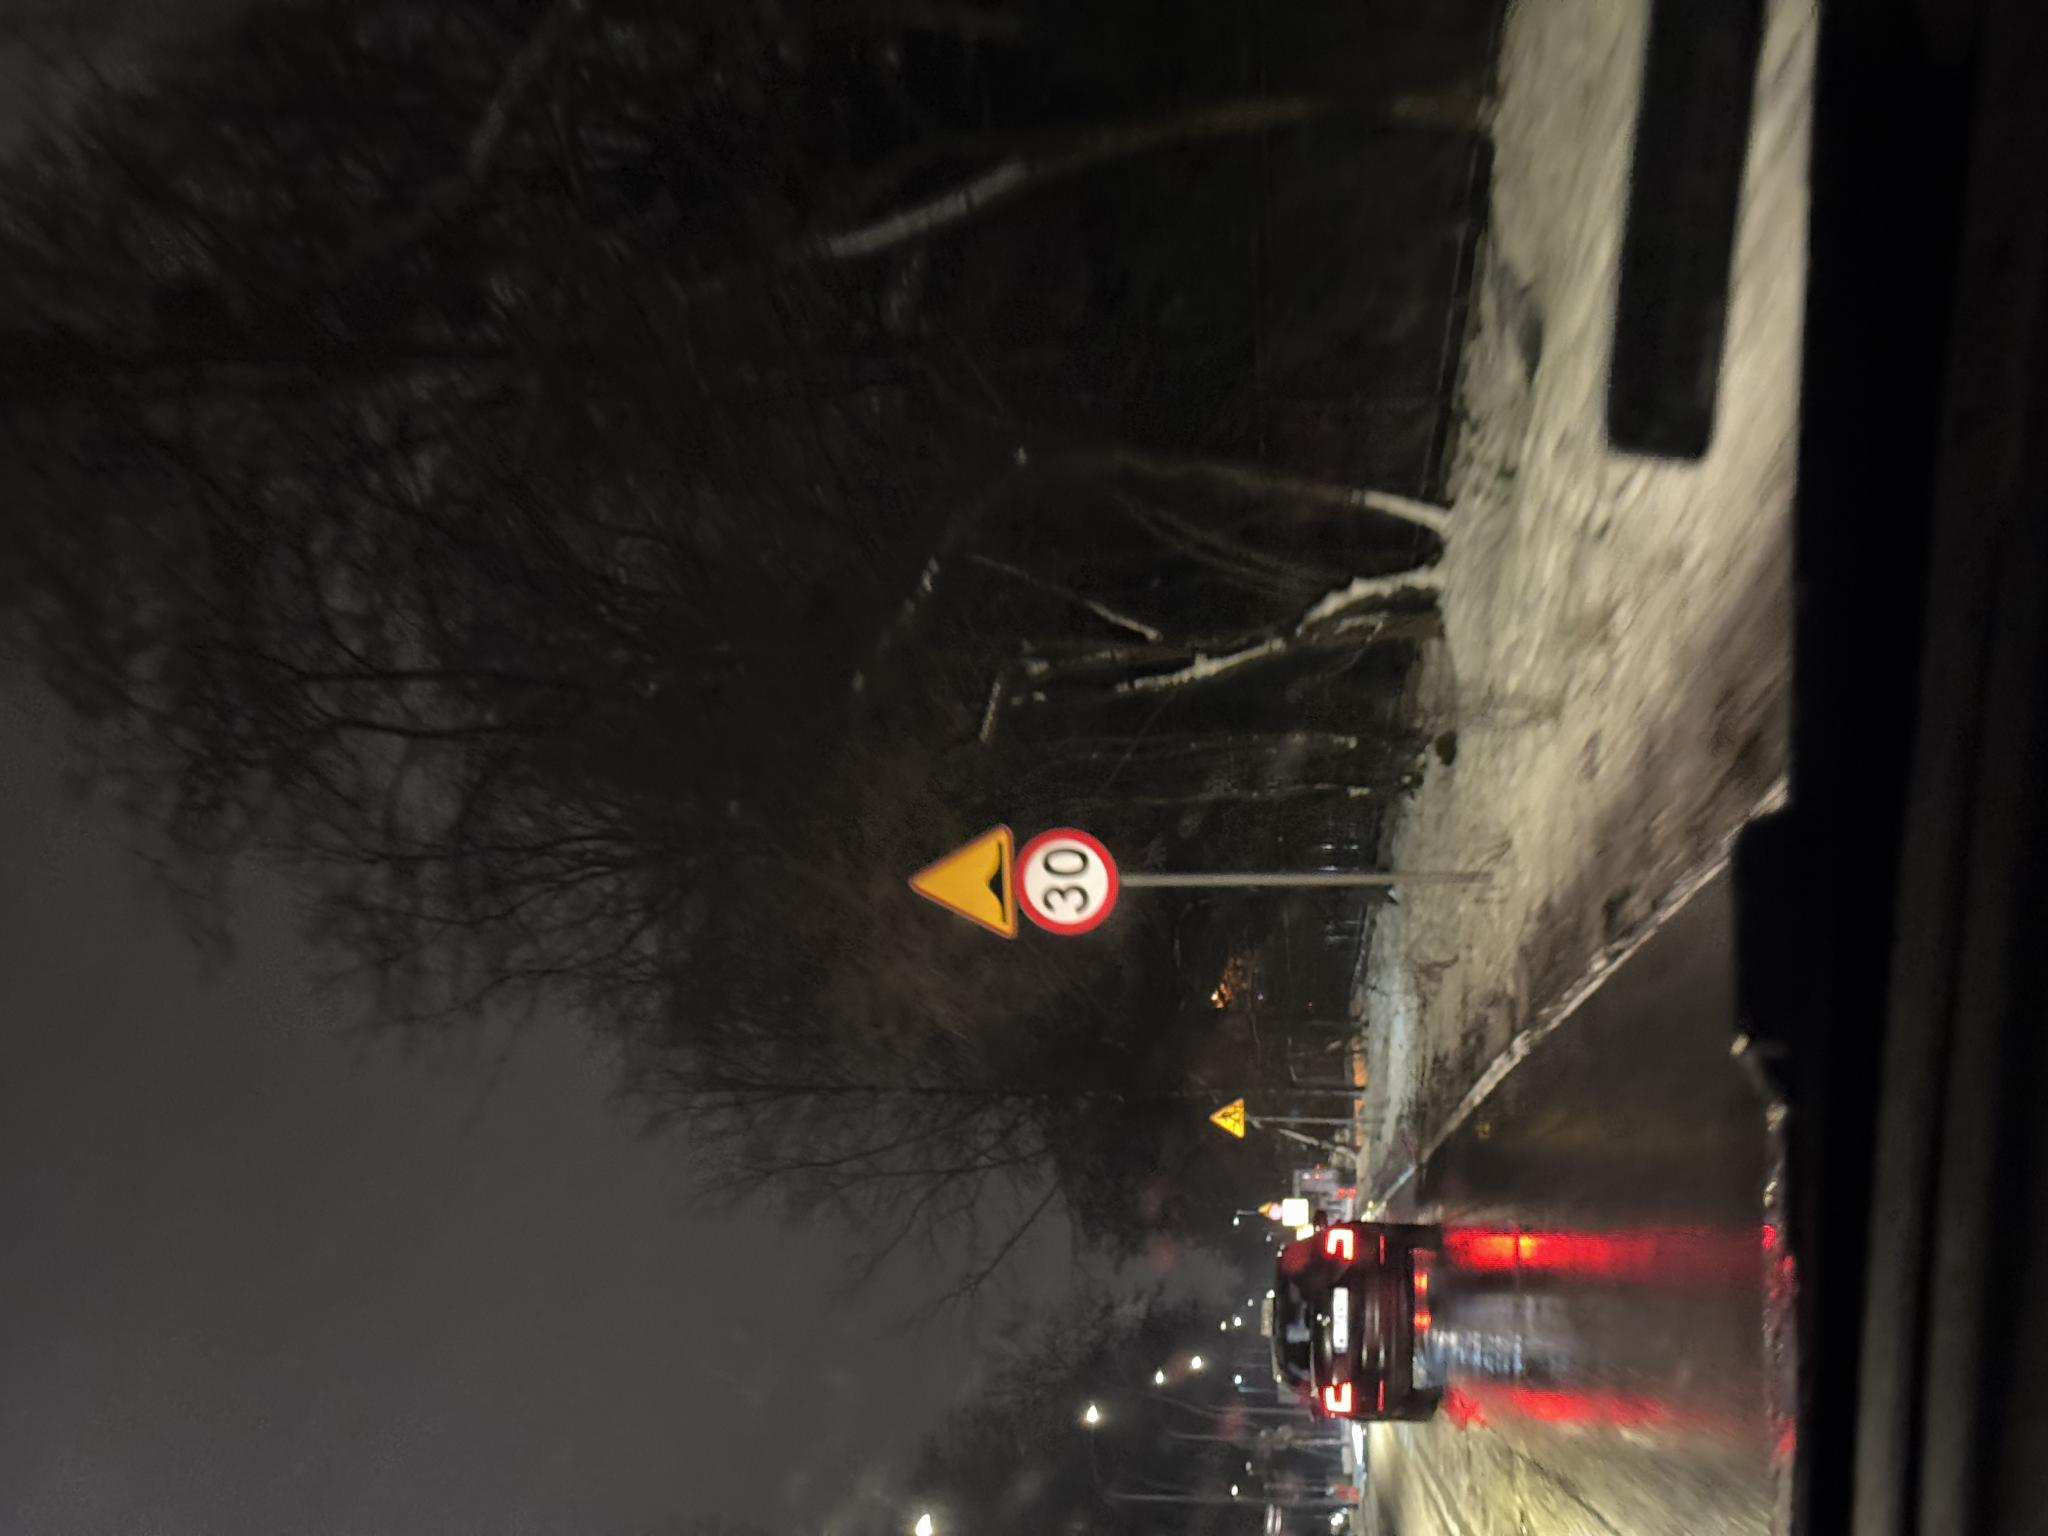prohibitory: (600, 1016, 712, 1120)
warning: (594, 908, 714, 1017), (397, 1208, 439, 1246)
